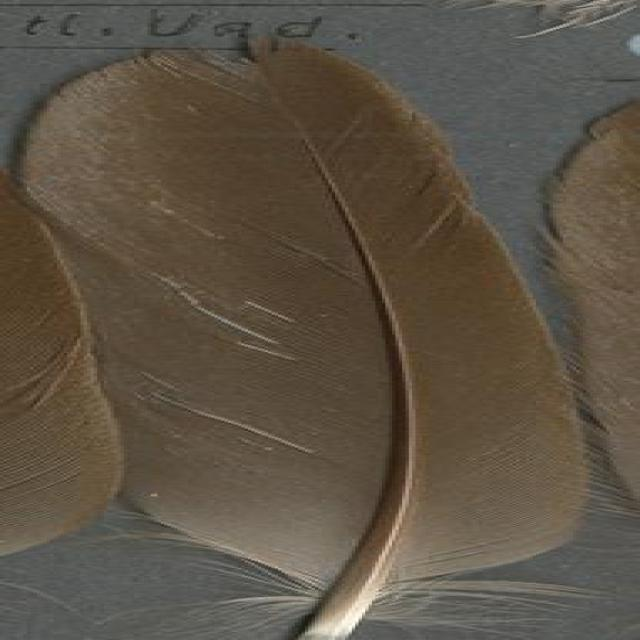feather: (21, 46, 591, 640)
